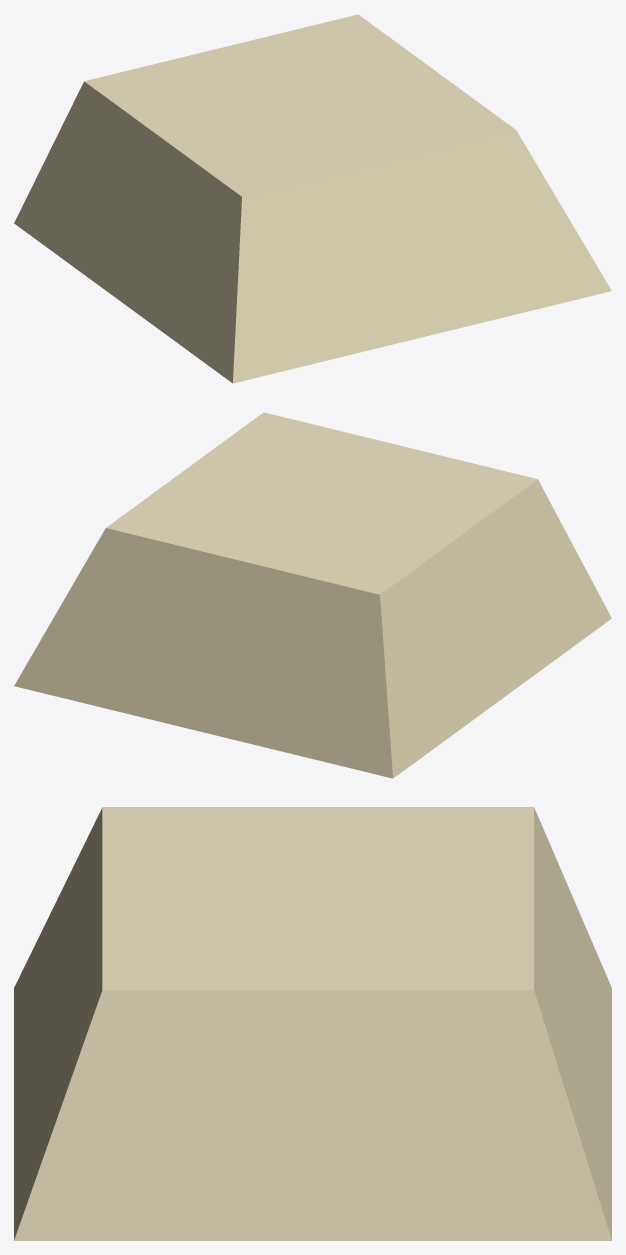
File: button.fbx
The picture shows the model from 3 angles, top to bottom: view 1: azimuth 30°, elevation 25°; view 2: azimuth 150°, elevation 25°; view 3: azimuth 270°, elevation 25°; orthographic projection. The views are drawn at different scales.
Parts seen in each view (by area): view 1: Cube; view 2: Cube; view 3: Cube.
Boxes of the visible parts, box(x1,y1,x2,y2) form: Cube: box(14, 14, 611, 383); Cube: box(14, 412, 611, 778); Cube: box(14, 807, 611, 1240).
Size of the model in its own units: 200 by 77.04 by 200.
